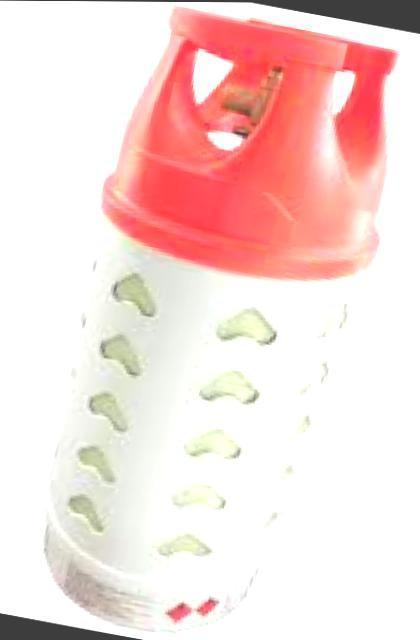cylinder: (1, 1, 420, 640)
